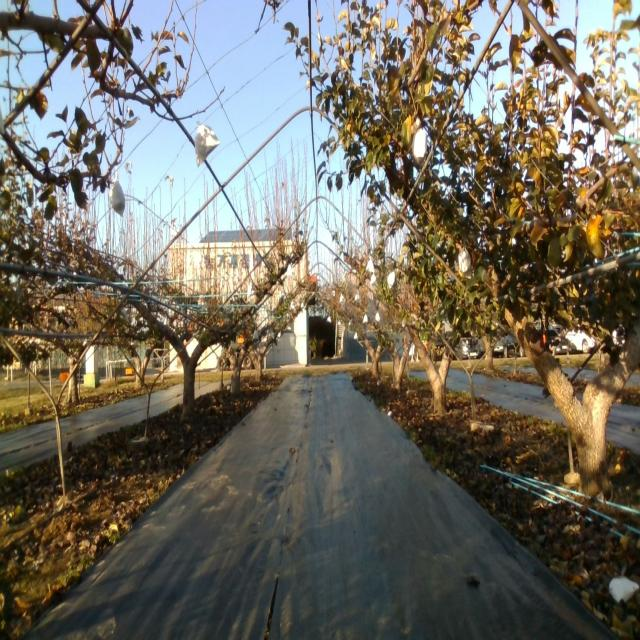pearbags: (194, 120, 220, 164), (108, 172, 125, 216), (412, 126, 428, 160), (457, 247, 472, 276)
